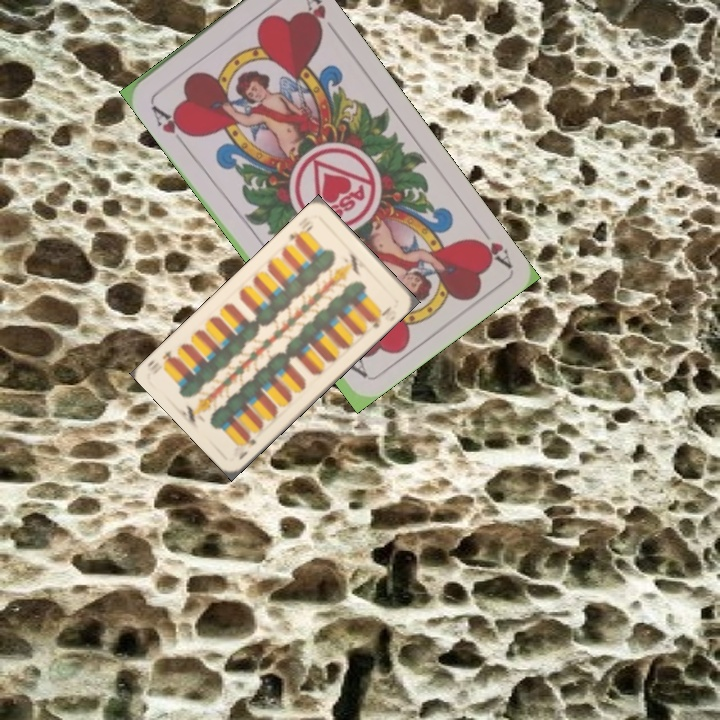E10: (285, 220, 316, 247), (234, 431, 259, 462)
HA: (146, 98, 193, 149), (469, 219, 514, 270)
